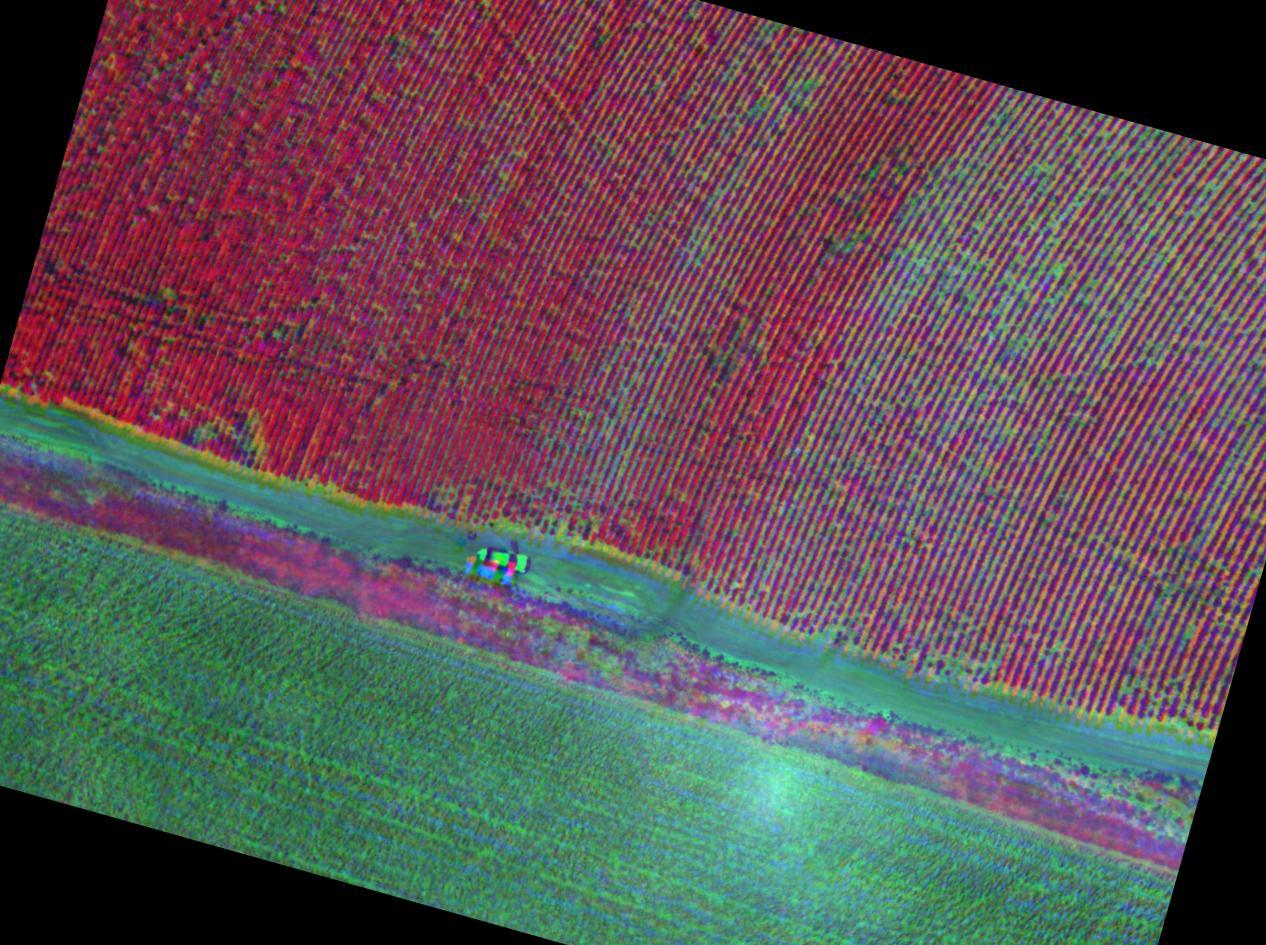dc: (821, 598, 992, 684), (888, 193, 1000, 315), (1013, 173, 1091, 291), (1116, 123, 1208, 221), (1136, 275, 1227, 344)
